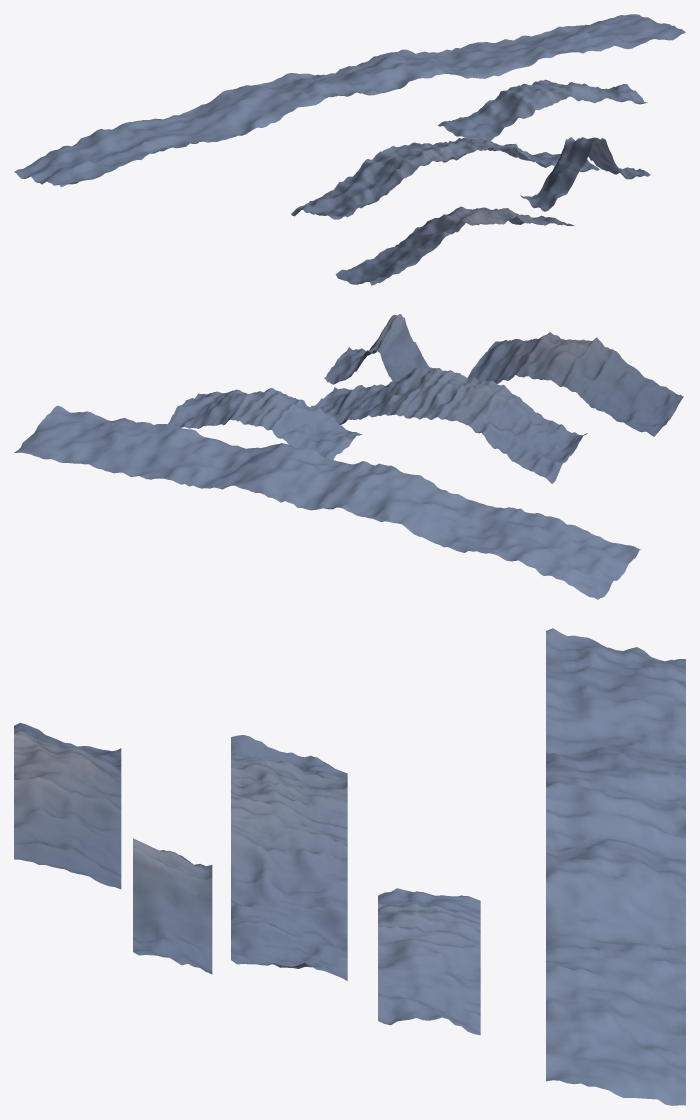
The model's file is peaks.glb.
3 renders of one model, top to bottom at view 1: azimuth 30°, elevation 25°; view 2: azimuth 150°, elevation 25°; view 3: azimuth 270°, elevation 25°, orthographic. The views are drawn at different scales.
Visible parts, largest first — view 1: Ridge.Wall, Ridge.Mid, Ridge.Far, Ridge.Near, Ridge.Spur; view 2: Ridge.Wall, Ridge.Mid, Ridge.Near, Ridge.Far, Ridge.Spur; view 3: Ridge.Wall, Ridge.Mid, Ridge.Near, Ridge.Far, Ridge.Spur.
Boxes of the visible parts, x1,y1,x2,y2 form: Ridge.Wall: (14,14,685,187); Ridge.Mid: (291,137,599,219); Ridge.Far: (438,79,647,140); Ridge.Near: (335,206,574,285); Ridge.Spur: (520,137,650,211); Ridge.Wall: (14,405,640,599); Ridge.Mid: (311,367,587,483); Ridge.Near: (467,332,683,436); Ridge.Far: (168,388,362,459); Ridge.Spur: (324,314,432,384); Ridge.Wall: (546,628,685,1105); Ridge.Mid: (231,735,347,980); Ridge.Near: (14,722,121,889); Ridge.Far: (378,888,480,1035); Ridge.Spur: (133,838,212,974).
Size of the model in its own units: 460 by 54.53 by 288.
